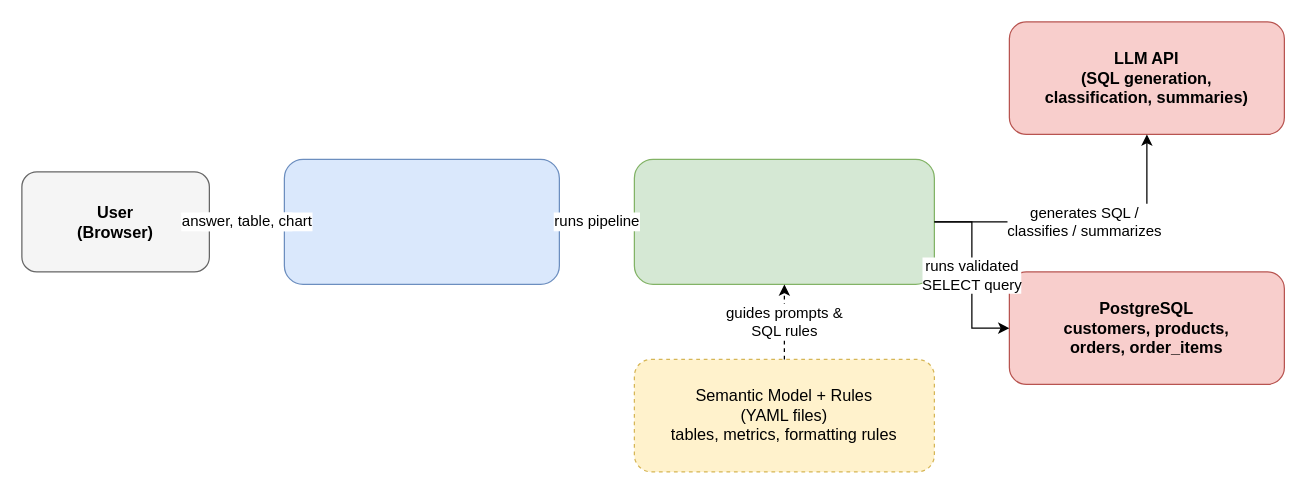
This 1306x494 diagram has some shape labels left out. The shapes that lost their labels are listed below. From the top down, each one's centre as x and y in pixels, then its label:
At [421,221]: "Streamlit App (main.py + sidebar) Chat UI, KPIs, charts, export".
At [783,221]: "LangGraph Agent classify → generate SQL → validate → execute → summarize".
